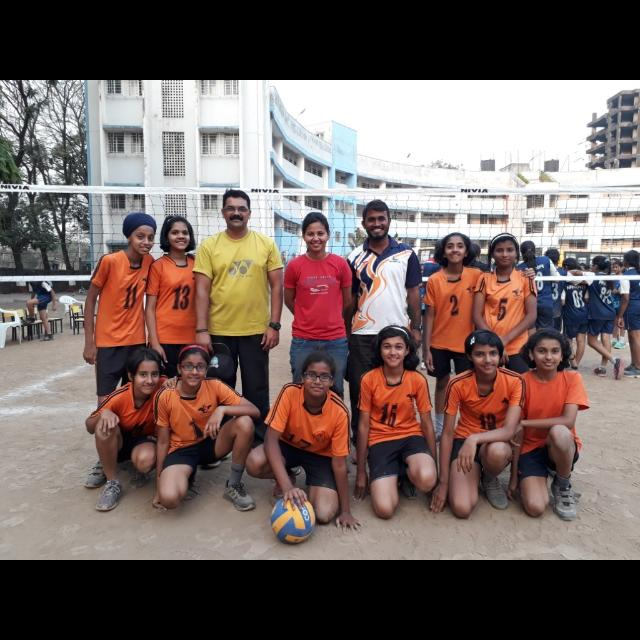head: (465, 330, 503, 376), (300, 352, 336, 400), (128, 348, 162, 397), (528, 330, 566, 372), (176, 344, 212, 388), (377, 326, 413, 368), (221, 190, 253, 230), (302, 212, 332, 254), (362, 200, 392, 242), (128, 218, 156, 256), (491, 236, 519, 268), (442, 233, 470, 264), (165, 219, 191, 251), (434, 238, 454, 260), (562, 256, 578, 278), (544, 248, 560, 268), (592, 255, 608, 273), (520, 241, 536, 259), (26, 270, 38, 282), (613, 262, 625, 274)
person: (84, 212, 200, 490), (192, 189, 286, 473), (420, 232, 538, 452), (243, 348, 365, 536), (342, 197, 426, 468), (281, 210, 355, 478), (428, 327, 528, 521), (152, 343, 264, 515), (349, 322, 443, 522), (503, 324, 592, 524), (144, 214, 213, 468), (82, 346, 180, 514), (470, 232, 540, 454), (564, 254, 626, 382), (532, 248, 592, 376), (418, 237, 466, 377), (511, 240, 562, 360), (557, 256, 591, 378), (20, 268, 58, 342), (604, 260, 630, 350)
